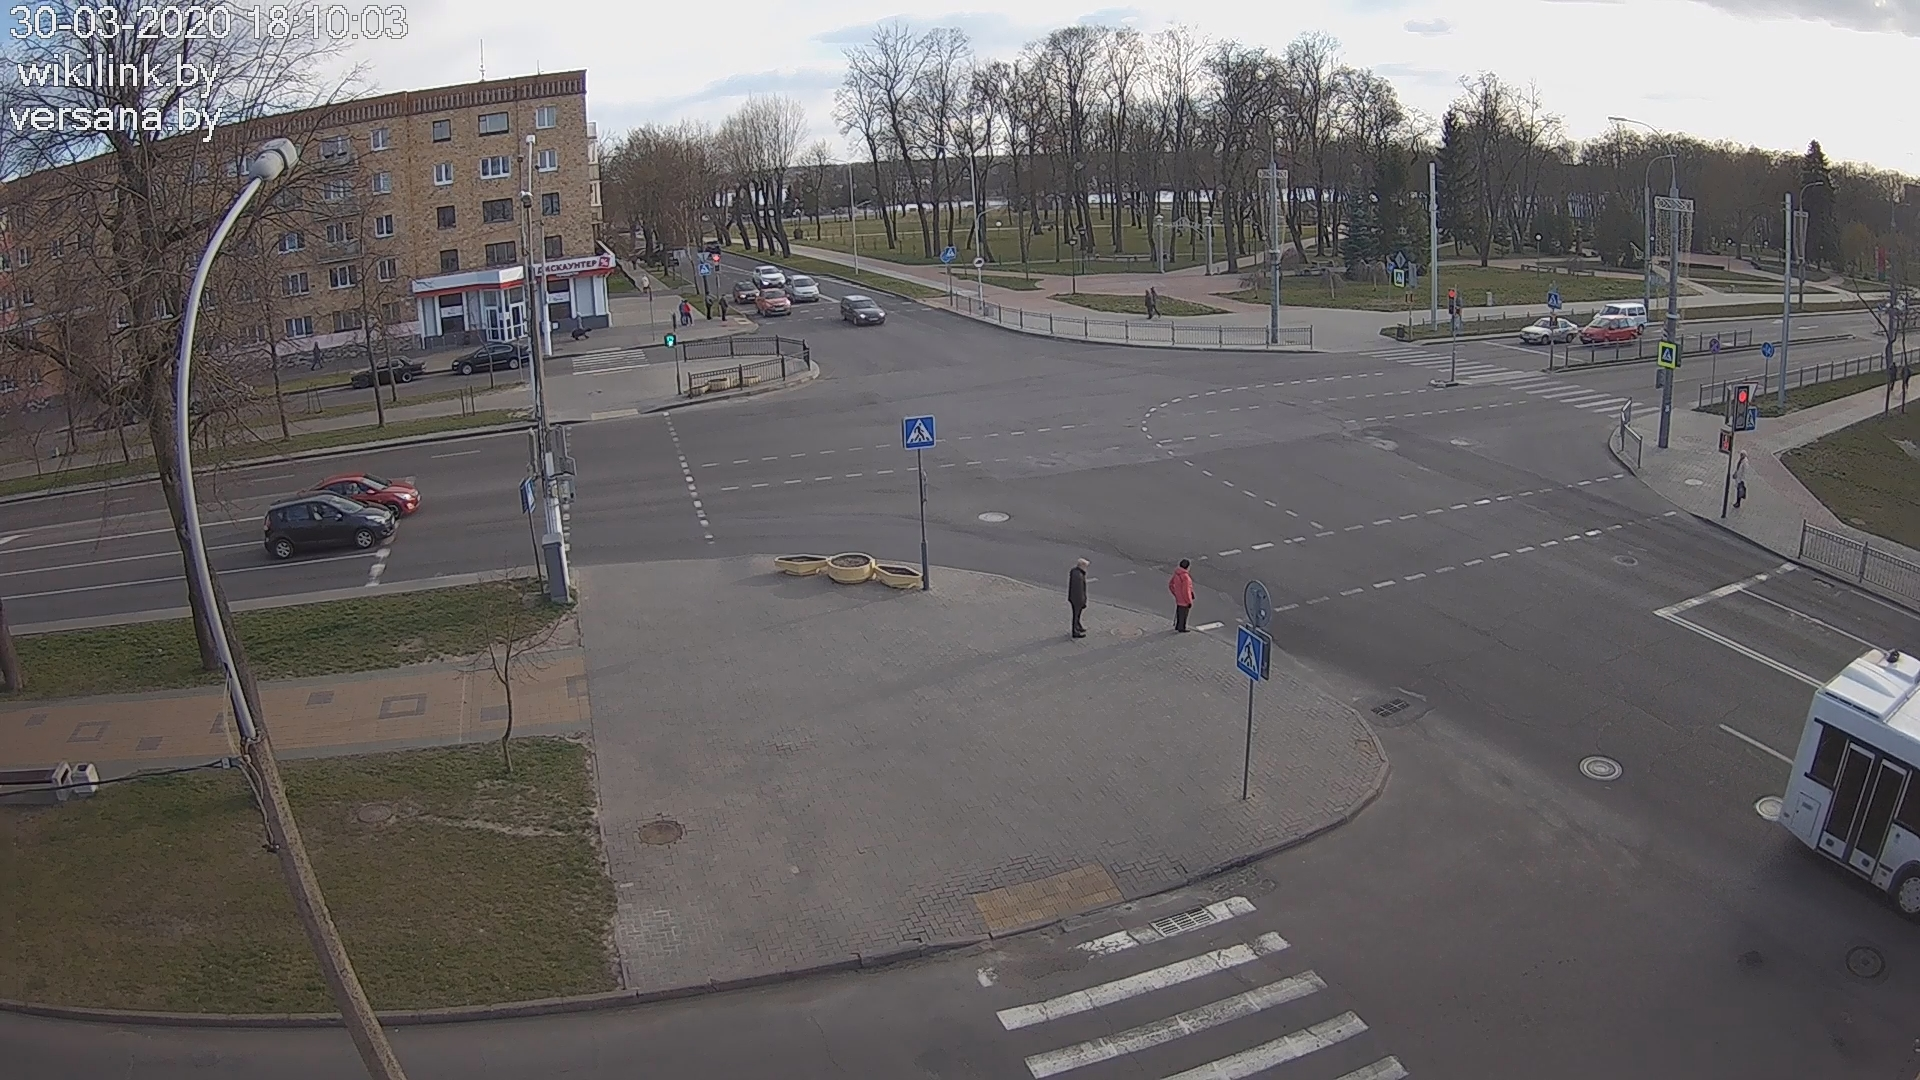car: (264, 491, 396, 559), (298, 471, 421, 517), (451, 342, 531, 376), (351, 355, 426, 388), (1580, 314, 1638, 345), (1520, 316, 1578, 344), (841, 294, 886, 327), (756, 287, 791, 316), (785, 274, 819, 302), (752, 265, 785, 287), (732, 280, 760, 305)
